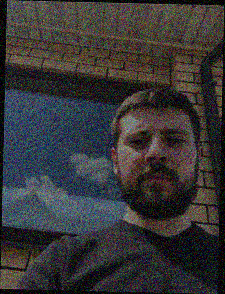without_mask: (120, 122, 198, 220)
